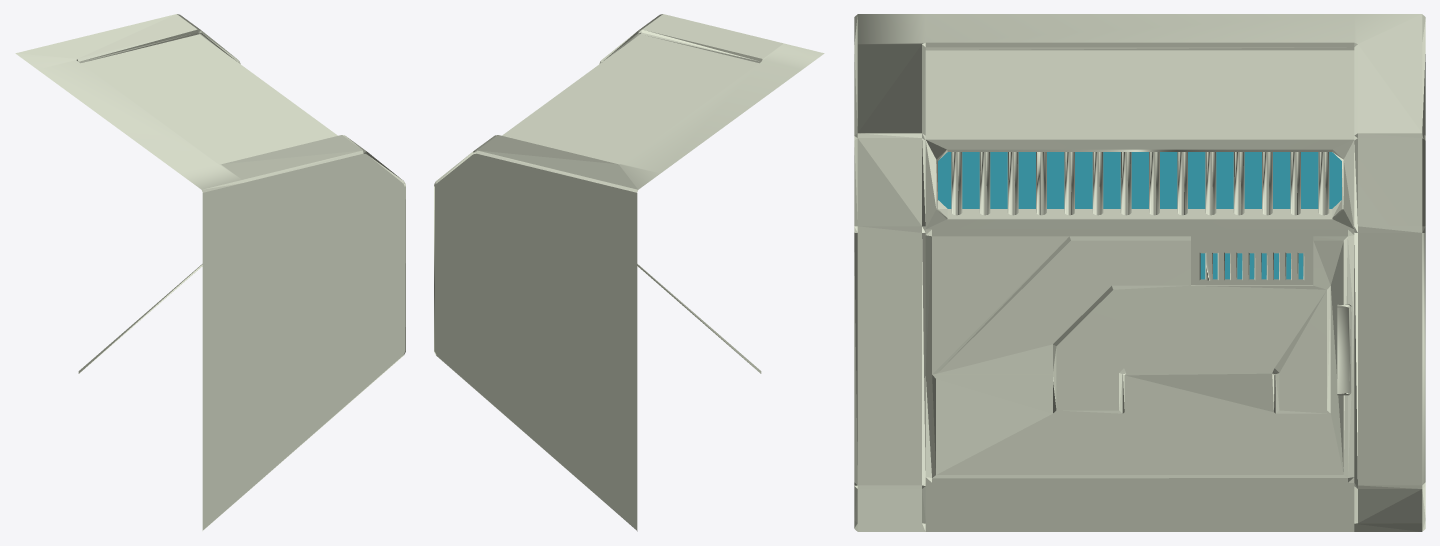
The model's file is uee_stanton_kit_ext_wall_4x8x8_08_reg.glb.
3 renders of one model, left to right at view 1: azimuth 30°, elevation 25°; view 2: azimuth 150°, elevation 25°; view 3: azimuth 270°, elevation 25°, orthographic. The views are drawn at different scales.
Bounding box in the file's own units: 5 × 8 × 8.
